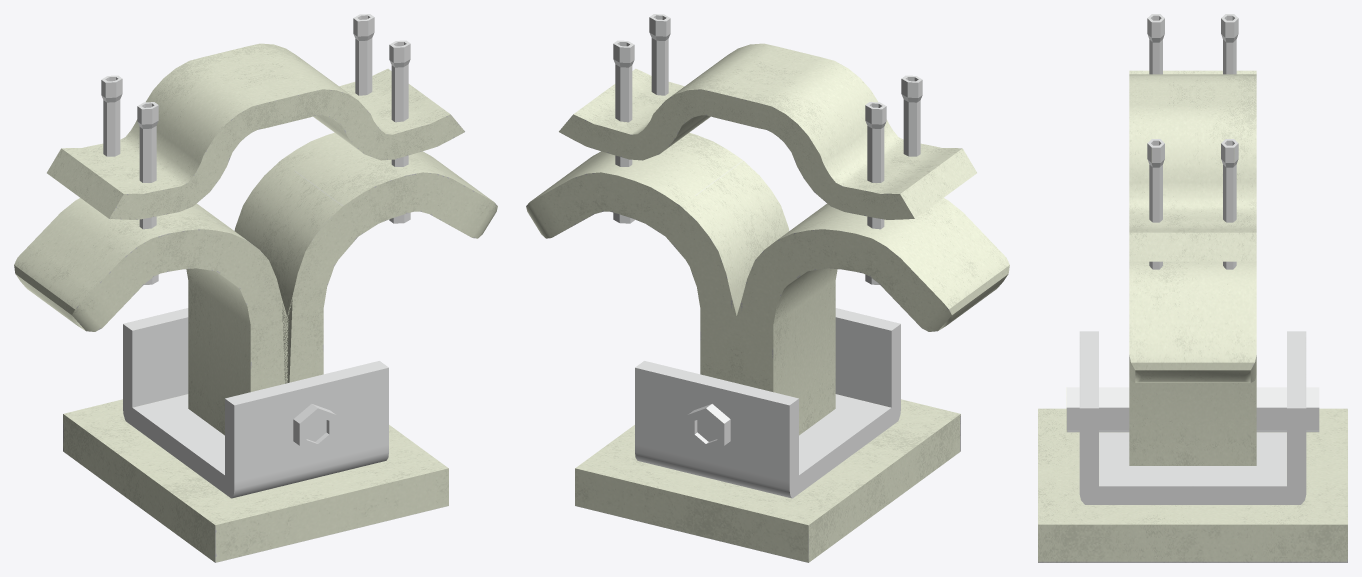
Rendered from Mount Kit.fbx.
3 renders of one model, left to right at view 1: azimuth 30°, elevation 25°; view 2: azimuth 150°, elevation 25°; view 3: azimuth 270°, elevation 25°, orthographic.
Parts seen in each view (by area): view 1: Cube.003, Cube.005, Cube, Cube.002, Cylinder.001, Cylinder; view 2: Cube.003, Cube.005, Cube, Cube.002, Cylinder.001, Cylinder; view 3: Cube.003, Cube, Cube.005, Cube.002, Cylinder.001, Cylinder.
Boxes of the visible parts, x1,y1,x2,y2 form: Cube.003: (14,132,497,435); Cube.005: (47,43,464,219); Cube: (63,399,448,562); Cube.002: (123,308,388,498); Cylinder.001: (101,14,410,284); Cylinder: (293,404,336,452); Cube.003: (526,132,1009,435); Cube.005: (559,43,976,219); Cube: (575,399,960,562); Cube.002: (635,308,900,498); Cylinder.001: (613,14,922,284); Cylinder: (687,404,730,452); Cube.003: (1129,261,1256,465); Cube: (1038,408,1347,562); Cube.005: (1129,70,1256,261); Cube.002: (1079,331,1306,504); Cylinder.001: (1147,14,1238,269); Cylinder: (1066,387,1319,432).
Bounding box in the file's own units: 94.77 × 88.94 × 58.83.
Materials: 1 (1 with a texture image).
